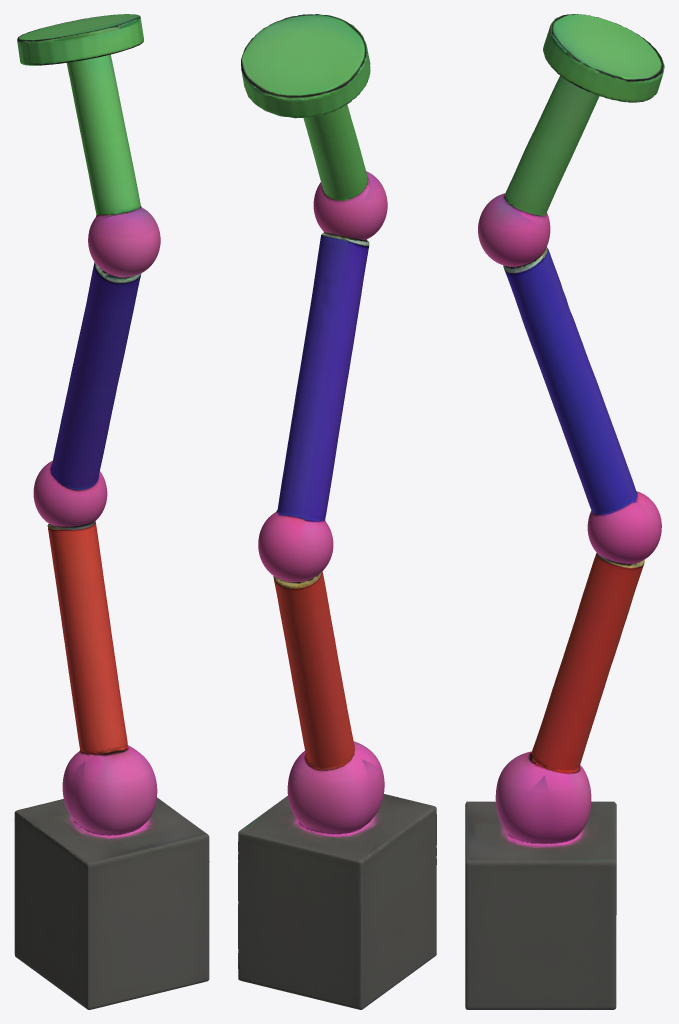
The model's file is hockey_v1.glb.
3 views of the same model, side by side, from view 1: azimuth 30°, elevation 25°; view 2: azimuth 150°, elevation 25°; view 3: azimuth 270°, elevation 25° (orthographic). The views are drawn at different scales.
Visible parts, largest first — view 1: tripo_node_71c0ac23-110f-4c1d-af97-c57e77d1fe5d; view 2: tripo_node_71c0ac23-110f-4c1d-af97-c57e77d1fe5d; view 3: tripo_node_71c0ac23-110f-4c1d-af97-c57e77d1fe5d.
Part boxes in pixels (left/top/right/bottom): tripo_node_71c0ac23-110f-4c1d-af97-c57e77d1fe5d: left=14, top=14, right=209, bottom=1009; tripo_node_71c0ac23-110f-4c1d-af97-c57e77d1fe5d: left=238, top=14, right=436, bottom=1009; tripo_node_71c0ac23-110f-4c1d-af97-c57e77d1fe5d: left=465, top=14, right=664, bottom=1009.
Bounding box in the file's own units: 0.1366 × 1 × 0.1898.
1 material, 1 textured.
